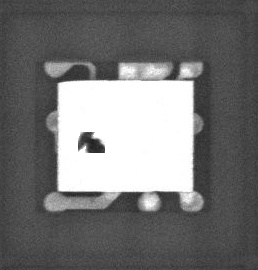DIE_INK: (78, 132, 107, 155)
